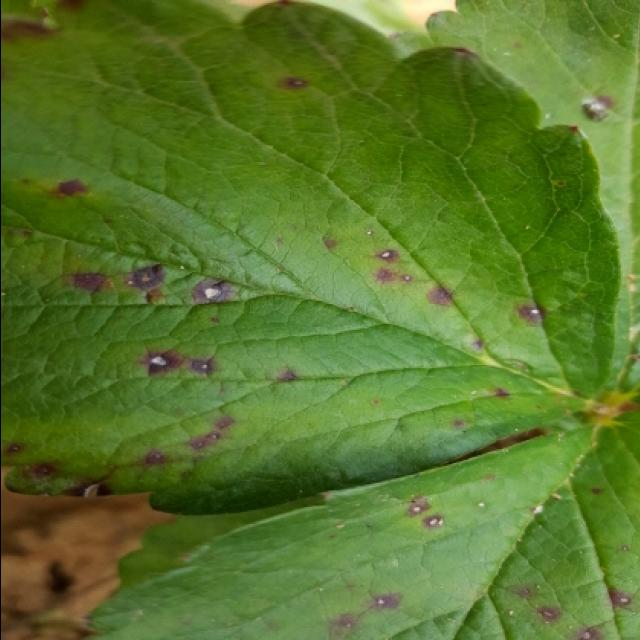Leaf Spot: (2, 0, 620, 518), (80, 409, 640, 638), (388, 0, 640, 410)
